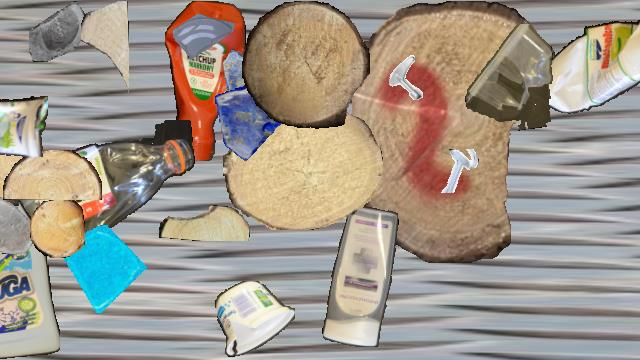glass: (63, 225, 151, 313), (213, 79, 297, 163), (173, 1, 235, 63), (29, 1, 89, 61), (223, 46, 279, 102), (0, 195, 40, 253)
metal: (383, 52, 435, 104), (436, 149, 480, 193)
plastic: (17, 120, 195, 238), (524, 1, 640, 121), (165, 1, 245, 161), (0, 169, 59, 359), (321, 206, 399, 346), (463, 24, 555, 130), (215, 281, 295, 357), (0, 92, 48, 156)
wood: (352, 1, 556, 263), (223, 109, 383, 229), (242, 1, 370, 129), (3, 150, 101, 200), (81, 1, 129, 97), (159, 205, 249, 241), (30, 200, 84, 258), (0, 146, 29, 206)
